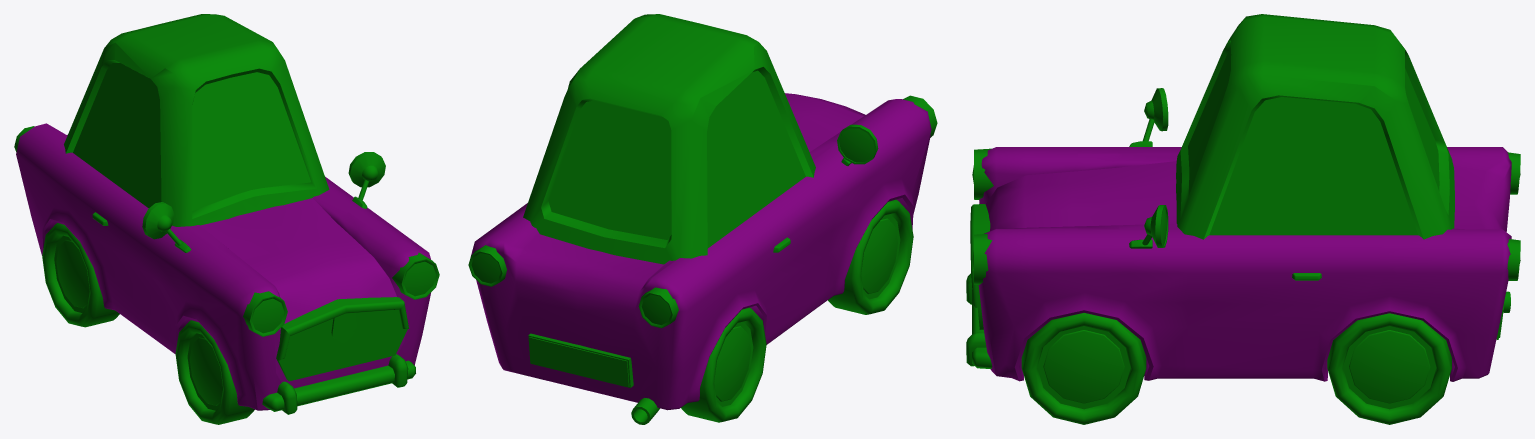
File: SM_car.fbx
The picture shows the model from 3 angles, left to right: view 1: azimuth 30°, elevation 25°; view 2: azimuth 150°, elevation 25°; view 3: azimuth 270°, elevation 25°; orthographic projection. The views are drawn at different scales.
Parts seen in each view (by area): view 1: car_body1, TOP, grill, wheel_01, wheel_02, pCube3, headlight_2, headlight_1, pCylinder1, pCube4, pCylinder4, logo; view 2: car_body1, TOP, wheel_01, wheel_02, plate, pCylinder4, back_headlight1, back_headlight, exhaust; view 3: car_body1, TOP, wheel_01, wheel_02, grill, pCylinder1, pCylinder4, headlight_1, headlight_2, pCube3, pCube4.
Part boxes in pixels (box(x1,y1,x2,y2)): car_body1: box(16, 123, 430, 410); TOP: box(64, 14, 329, 226); grill: box(276, 297, 408, 381); wheel_01: box(175, 320, 414, 424); wheel_02: box(42, 223, 119, 327); pCube3: box(262, 360, 415, 411); headlight_2: box(243, 291, 287, 336); headlight_1: box(392, 252, 439, 299); pCylinder1: box(348, 152, 385, 187); pCube4: box(277, 354, 408, 414); pCylinder4: box(142, 202, 174, 239); logo: box(331, 312, 357, 343); car_body1: box(470, 93, 931, 410); TOP: box(523, 14, 815, 264); wheel_01: box(828, 199, 913, 314); wheel_02: box(681, 307, 766, 422); plate: box(528, 333, 633, 387); pCylinder4: box(837, 124, 878, 164); back_headlight1: box(638, 287, 678, 328); back_headlight: box(468, 245, 506, 286); exhaust: box(631, 398, 659, 424); car_body1: box(978, 147, 1511, 381); TOP: box(1176, 14, 1454, 239); wheel_01: box(1021, 313, 1146, 424); wheel_02: box(1327, 313, 1451, 424); grill: box(970, 204, 990, 329); pCylinder1: box(1144, 205, 1168, 247); pCylinder4: box(1144, 88, 1168, 131); headlight_1: box(972, 234, 992, 284); headlight_2: box(972, 148, 993, 199); pCube3: box(972, 290, 992, 368); pCube4: box(966, 273, 986, 366).
Size of the model in its own units: 143 by 165 by 247.
